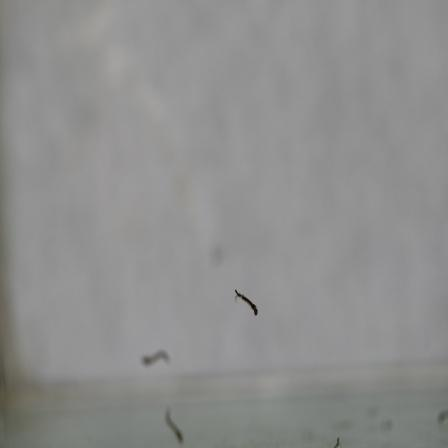Jentik-Nyamuk: (231, 287, 262, 321)
